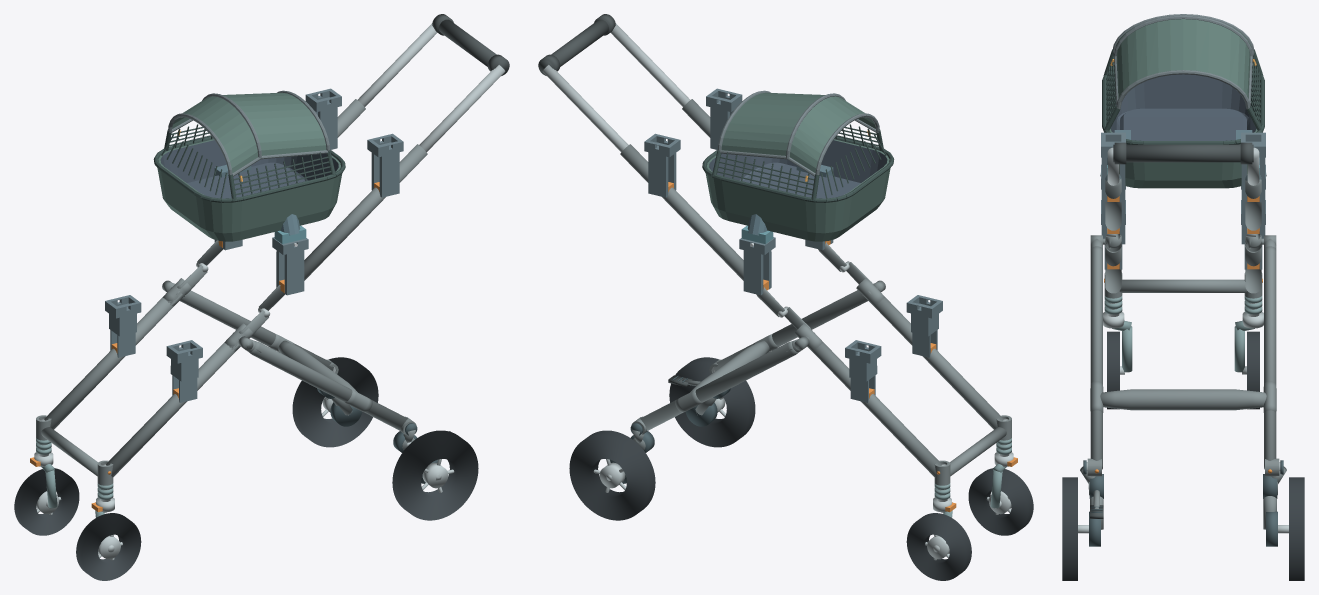
Rendered from S02_w380_state1_wheel_S.glb.
3 views of the same model, side by side, from view 1: azimuth 30°, elevation 25°; view 2: azimuth 150°, elevation 25°; view 3: azimuth 270°, elevation 25° (orthographic). The views are drawn at different scales.
Parts seen in each view (by area): view 1: S02_Cabin, RL_tire.009, RR_tire.009, FL_tire.009, FR_tire.009, main_lower_1, main_lower_-1, V46_rear_leg_-1.002, main_upper_-1, Universal_Cabin_Receiver_H_-1, Universal_Cabin_Receiver_L_-1, Universal_Cabin_Receiver_L_1 (+9 smaller); view 2: S02_Cabin, RR_tire.009, RL_tire.009, FR_tire.009, FL_tire.009, main_lower_-1, main_lower_1, V46_rear_leg_1.002, main_upper_1, Universal_Cabin_Receiver_H_1, Universal_Cabin_Receiver_L_1, Universal_Cabin_Receiver_L_-1 (+9 smaller); view 3: S02_Cabin, V46_rearbar.002, V46_rear_leg_1.002, V46_rear_leg_-1.002, round_handle.010, front_fixed_round_tube, RL_tire.009, RR_tire.009, Universal_Cabin_Receiver_H_1, Universal_Cabin_Receiver_H_-1, FL_tire.009, FR_tire.009 (+14 smaller).
Part boxes in pixels (bbox=[...]): S02_Cabin: bbox=[153, 90, 345, 241]; RL_tire.009: bbox=[392, 430, 478, 520]; RR_tire.009: bbox=[292, 357, 378, 447]; FL_tire.009: bbox=[76, 513, 141, 580]; FR_tire.009: bbox=[14, 468, 79, 535]; main_lower_1: bbox=[44, 293, 182, 429]; main_lower_-1: bbox=[106, 342, 238, 477]; V46_rear_leg_-1.002: bbox=[249, 341, 407, 430]; main_upper_-1: bbox=[304, 144, 427, 280]; Universal_Cabin_Receiver_H_-1: bbox=[367, 133, 403, 197]; Universal_Cabin_Receiver_L_-1: bbox=[166, 340, 202, 402]; Universal_Cabin_Receiver_L_1: bbox=[105, 295, 141, 357]; S02_Cabin: bbox=[702, 90, 894, 241]; RR_tire.009: bbox=[569, 430, 655, 520]; RL_tire.009: bbox=[669, 357, 755, 447]; FR_tire.009: bbox=[906, 513, 971, 580]; FL_tire.009: bbox=[968, 468, 1033, 535]; main_lower_-1: bbox=[865, 293, 1003, 429]; main_lower_1: bbox=[809, 342, 941, 477]; V46_rear_leg_1.002: bbox=[640, 341, 798, 430]; main_upper_1: bbox=[620, 144, 743, 280]; Universal_Cabin_Receiver_H_1: bbox=[644, 133, 680, 197]; Universal_Cabin_Receiver_L_1: bbox=[845, 340, 881, 402]; Universal_Cabin_Receiver_L_-1: bbox=[906, 295, 942, 357]; S02_Cabin: bbox=[1102, 14, 1264, 188]; V46_rearbar.002: bbox=[1100, 389, 1266, 410]; V46_rear_leg_1.002: bbox=[1264, 246, 1276, 469]; V46_rear_leg_-1.002: bbox=[1090, 246, 1102, 469]; round_handle.010: bbox=[1113, 144, 1253, 162]; front_fixed_round_tube: bbox=[1119, 279, 1247, 292]; RL_tire.009: bbox=[1062, 477, 1077, 580]; RR_tire.009: bbox=[1289, 477, 1304, 580]; Universal_Cabin_Receiver_H_1: bbox=[1241, 132, 1265, 202]; Universal_Cabin_Receiver_H_-1: bbox=[1101, 132, 1125, 202]; FL_tire.009: bbox=[1107, 331, 1119, 409]; FR_tire.009: bbox=[1247, 331, 1259, 409].
Bounding box in the file's own units: 1.09 × 1.02 × 0.4671.
